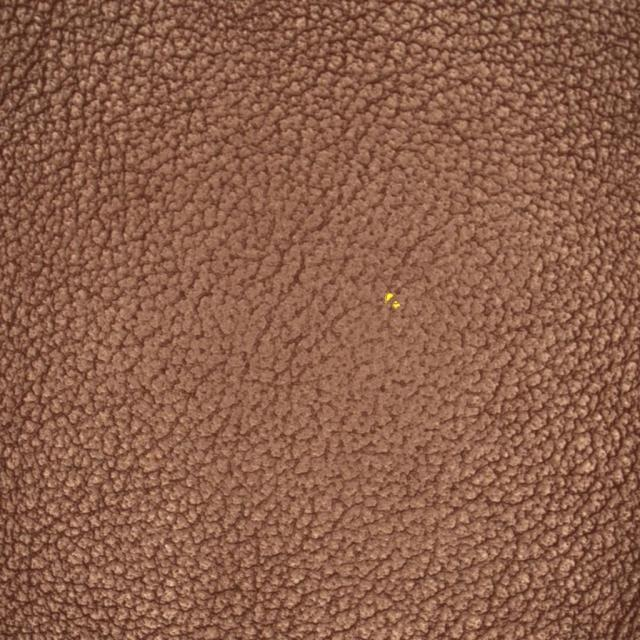Hole: (292, 227, 500, 379)
